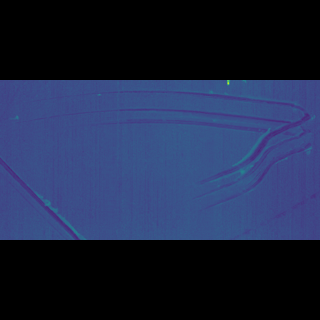Loch: (10, 123, 313, 187), (1, 156, 94, 200), (225, 173, 318, 208)
